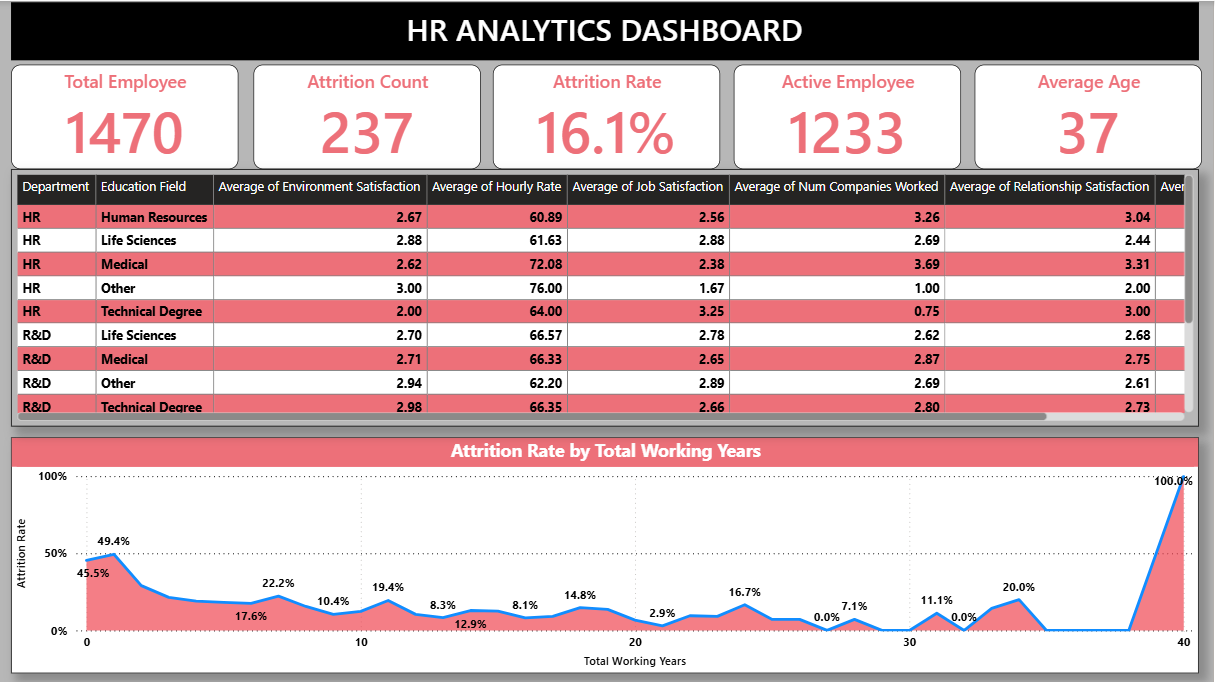

The dashboard page shown, as its layout file describes it:
{"tool":"powerbi","page":{"name":"Dashboard 2","canvas":[1280,720],"ordinal":1},"visuals":[{"type":"areaChart","fields":{"Category":["HR data.Total Working Years"],"Y":["HR data.Attrition Rate"]},"box":[12.8,460,1252.2,249.2],"z":0},{"type":"card","title":"Total Employee","fields":{"Values":["Sum(HR Data xlsx - HR data.Employee Count)"]},"box":[12.8,67.1,239.6,110.2],"z":1000},{"type":"card","title":"Attrition Count","fields":{"Values":["Sum(HR Data xlsx - HR data.Atrition Count)"]},"box":[268.3,67.1,239.6,110.2],"z":2000},{"type":"card","title":"Attrition Rate","fields":{"Values":["HR Data xlsx - HR data.Attrition Rate"]},"box":[520.7,67.1,239.6,110.2],"z":3000},{"type":"card","title":"Active Employee","fields":{"Values":["HR data.Active Employees"]},"box":[774.7,67.1,239.6,110.2],"z":4000},{"type":"card","title":"Average Age","fields":{"Values":["Avg(HR data.Age)"]},"box":[1028.6,67.1,239.6,110.2],"z":5000},{"type":"textbox","box":[12.8,1.6,1252.2,60.7],"z":6000},{"type":"tableEx","fields":{"Values":["HR data.Department","HR data.Education Field","Avg(HR data.Environment Satisfaction)","Avg(HR data.Hourly Rate)","Avg(HR data.Job Satisfaction)","Avg(HR data.Num Companies Worked)","Avg(HR data.Relationship Satisfaction)","Avg(HR data.Total Working Years)"]},"box":[12.8,177.3,1252.2,271.5],"z":7000}]}

Visuals, with their boxes in screenshot pixels (x1, y1, x2, y2), scaled from the page's 1280x720 canvas onto the 1215x682 screenshot:
areaChart - HR data.Total Working Years x HR data.Attrition Rate: bbox(12, 436, 1201, 672)
"Total Employee" card: bbox(12, 64, 240, 168)
"Attrition Count" card: bbox(255, 64, 482, 168)
"Attrition Rate" card: bbox(494, 64, 722, 168)
"Active Employee" card: bbox(735, 64, 963, 168)
"Average Age" card: bbox(976, 64, 1204, 168)
textbox: bbox(12, 2, 1201, 59)
tableEx - HR data.Department x HR data.Education Field: bbox(12, 168, 1201, 425)
